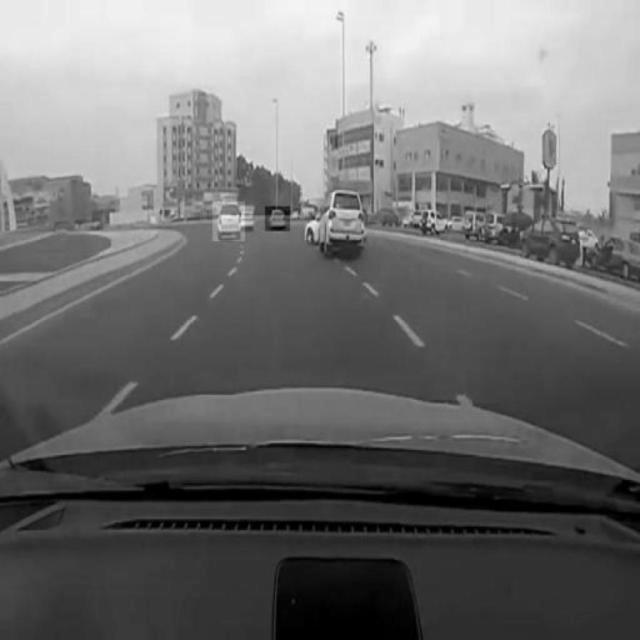vehicle: (517, 209, 583, 270), (319, 187, 369, 260), (212, 201, 246, 241), (265, 207, 291, 232)
